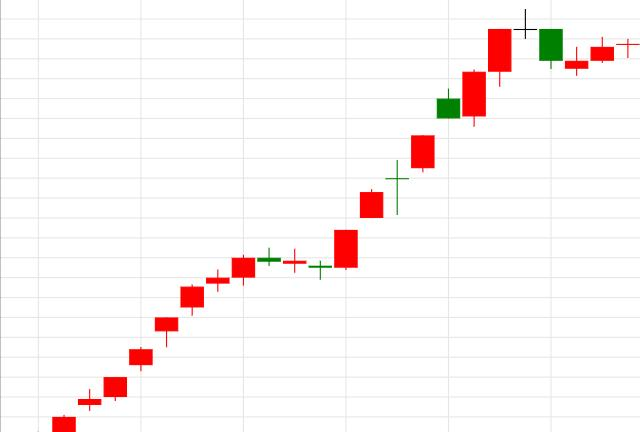evening_star_fall: (333, 9, 563, 271)
